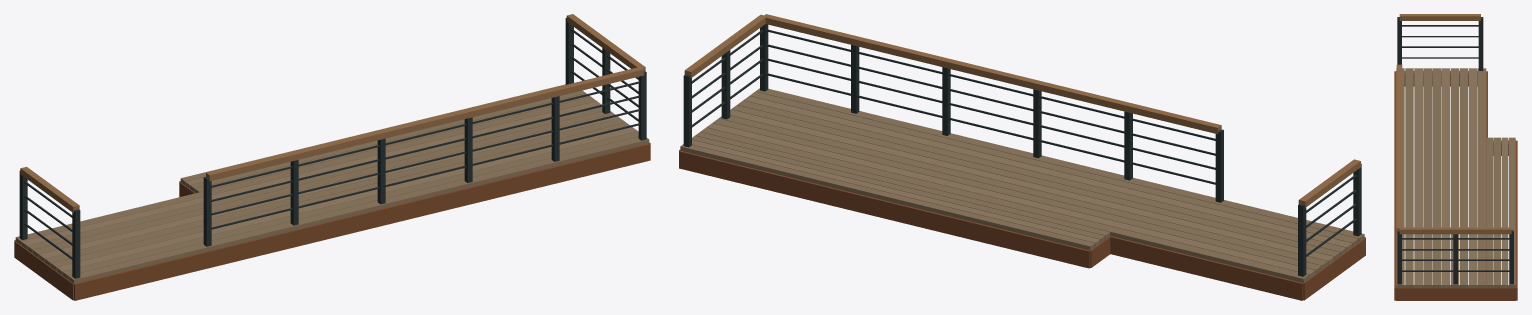
File: view_terrace.glb
3 views of the same model, side by side, from view 1: azimuth 30°, elevation 25°; view 2: azimuth 150°, elevation 25°; view 3: azimuth 270°, elevation 25° (orthographic). The views are drawn at different scales.
Visible parts, largest first — view 1: KitViewTerraceDetails; view 2: KitViewTerraceDetails; view 3: KitViewTerraceDetails.
Part boxes in pixels (left/top/right/bottom): KitViewTerraceDetails: left=14, top=14, right=650, bottom=300; KitViewTerraceDetails: left=679, top=14, right=1365, bottom=300; KitViewTerraceDetails: left=1394, top=14, right=1517, bottom=300.
Size of the model in its own units: 8.53 by 1.29 by 2.04.
